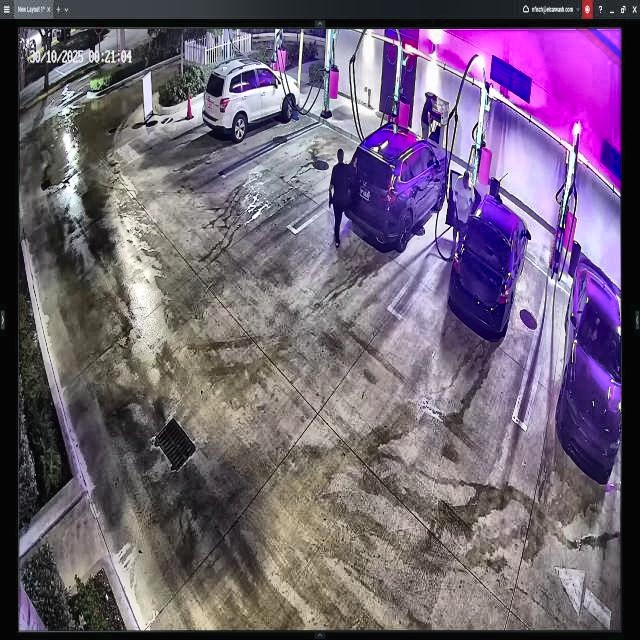Car: (343, 124, 449, 249), (447, 185, 528, 336), (201, 61, 301, 140)
